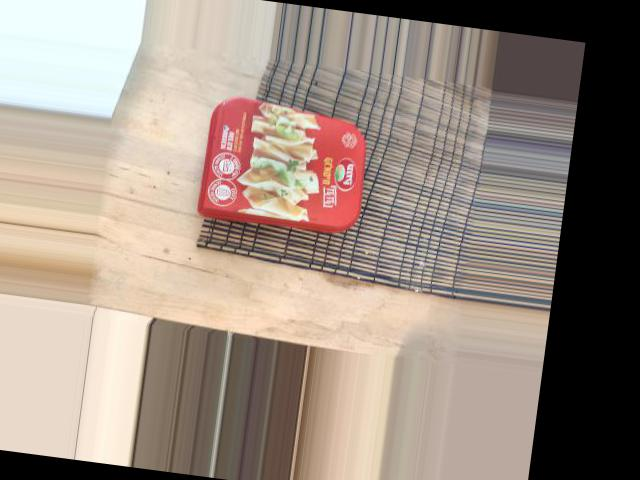cheese: (314, 33, 456, 256)
